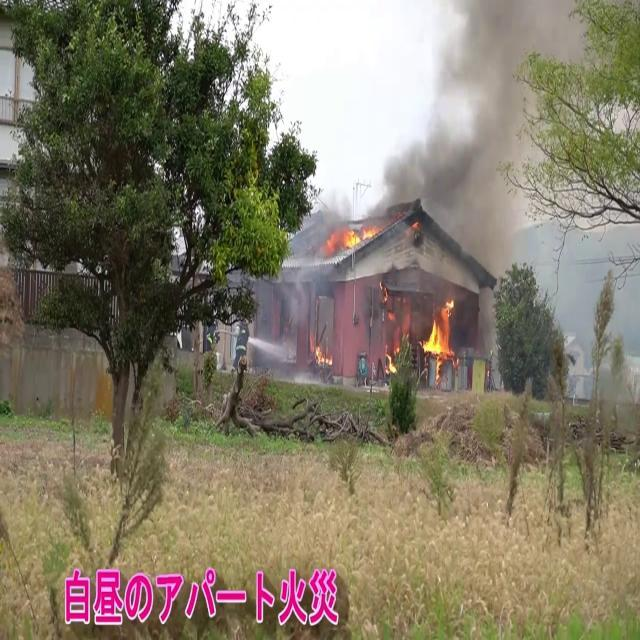Fire: (420, 296, 458, 373), (328, 218, 385, 255)
Smoke: (377, 0, 541, 306)
